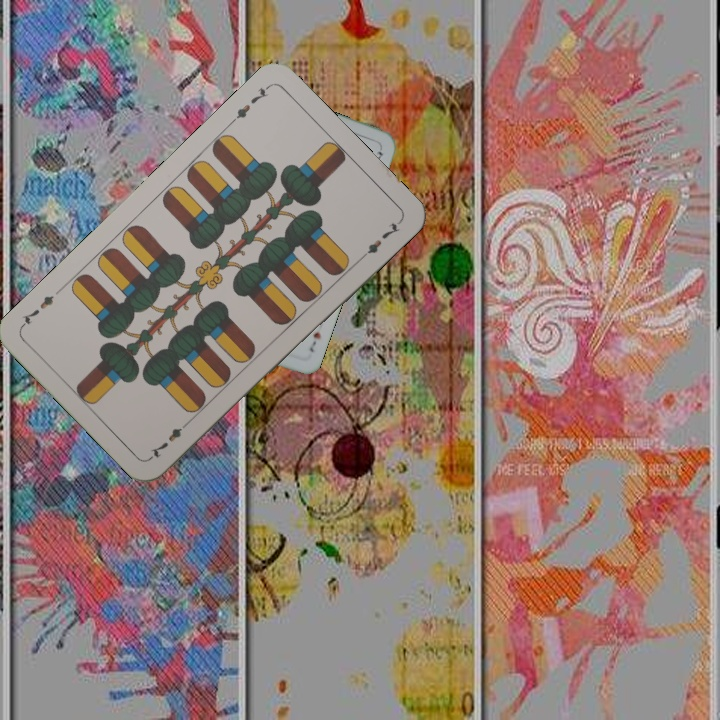E7: (146, 416, 194, 461), (226, 81, 272, 127)
H7: (306, 328, 324, 355)
